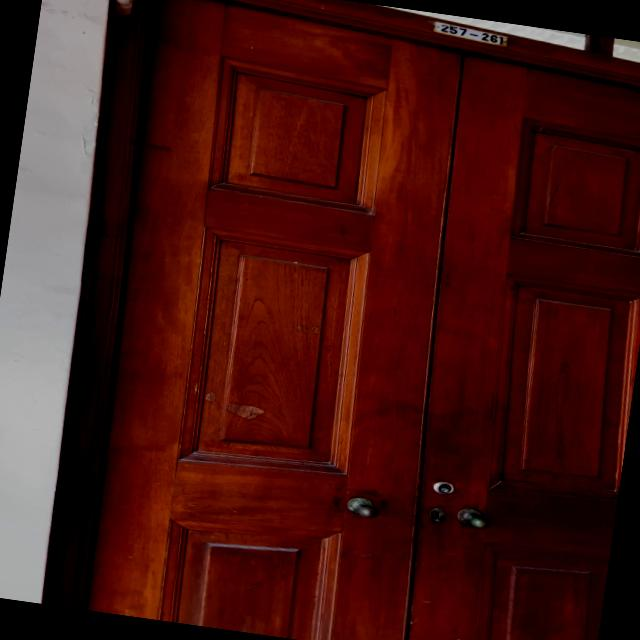room257: (429, 18, 515, 54)
room257door: (32, 0, 640, 640)
